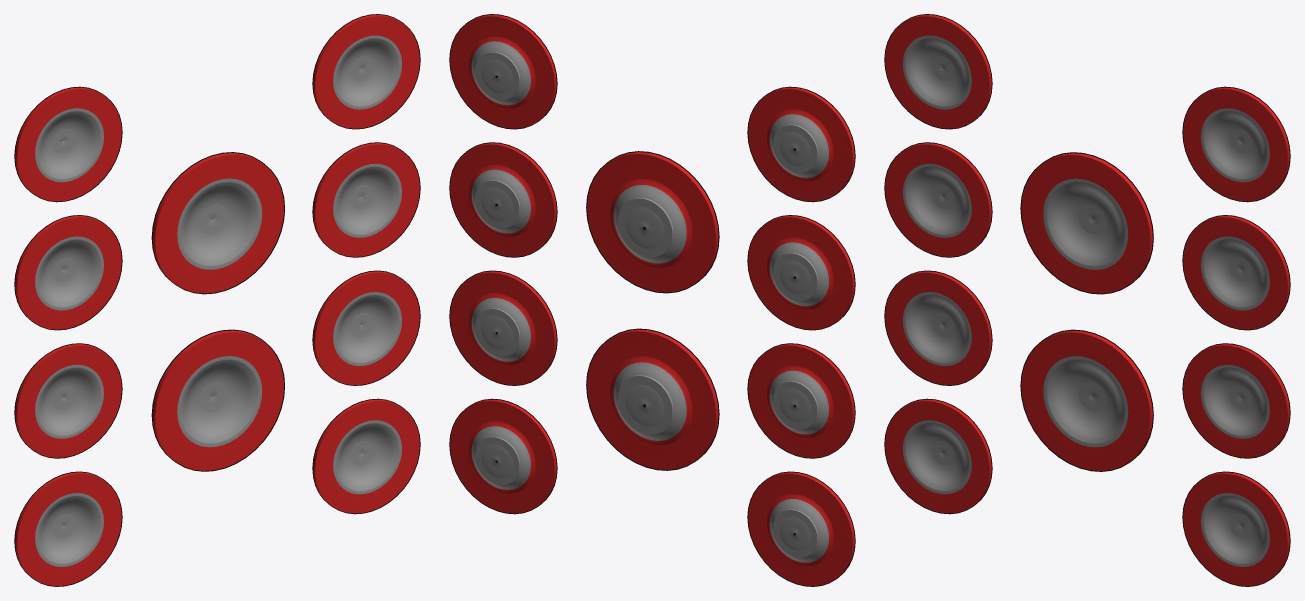
File: plates_set001.FBX
3 views of the same model, side by side, from view 1: azimuth 30°, elevation 25°; view 2: azimuth 150°, elevation 25°; view 3: azimuth 330°, elevation 25° (orthographic).
Visible parts, largest first — view 1: plate005, plate006, plate004, plate007, plate003, plate008, plate001, plate010, plate002, plate009, plate_outline006, plate_outline005; view 2: plate005, plate006, plate004, plate007, plate003, plate008, plate010, plate001, plate002, plate009, plate_outline006, plate_outline005; view 3: plate006, plate005, plate001, plate010, plate002, plate009, plate004, plate007, plate003, plate008, plate_outline005, plate_outline006.
Part boxes in pixels (box(x1,y1,x2,y2)): plate005: box(152, 330, 284, 470); plate006: box(152, 153, 284, 293); plate004: box(15, 87, 121, 201); plate007: box(313, 399, 419, 513); plate003: box(15, 215, 121, 329); plate008: box(313, 271, 419, 385); plate001: box(15, 472, 121, 586); plate010: box(313, 14, 419, 128); plate002: box(15, 344, 121, 457); plate009: box(313, 143, 419, 256); plate_outline006: box(151, 152, 284, 294); plate_outline005: box(151, 329, 284, 471); plate005: box(587, 329, 718, 469); plate006: box(587, 152, 718, 292); plate004: box(748, 87, 854, 201); plate007: box(450, 399, 556, 513); plate003: box(748, 215, 854, 329); plate008: box(450, 271, 556, 385); plate010: box(450, 14, 556, 128); plate001: box(748, 472, 854, 586); plate002: box(748, 344, 854, 457); plate009: box(450, 143, 556, 256); plate_outline006: box(586, 151, 719, 293); plate_outline005: box(586, 328, 719, 470); plate006: box(1021, 153, 1152, 293); plate005: box(1021, 330, 1152, 470); plate001: box(885, 399, 991, 513); plate010: box(1183, 87, 1289, 201); plate002: box(885, 271, 991, 385); plate009: box(1183, 215, 1289, 329); plate004: box(885, 14, 991, 128); plate007: box(1183, 472, 1289, 586); plate003: box(885, 143, 991, 256); plate008: box(1183, 344, 1289, 457); plate_outline005: box(1020, 329, 1153, 471); plate_outline006: box(1020, 152, 1153, 294).
Size of the model in its own units: 518 by 607 by 23.06.
